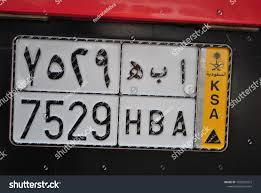2: (68, 47, 88, 142)
5: (44, 53, 66, 141)
7: (20, 46, 41, 140)
9: (91, 48, 112, 142)
A: (172, 58, 189, 138)
B: (149, 65, 165, 138)
H: (125, 60, 144, 137)
